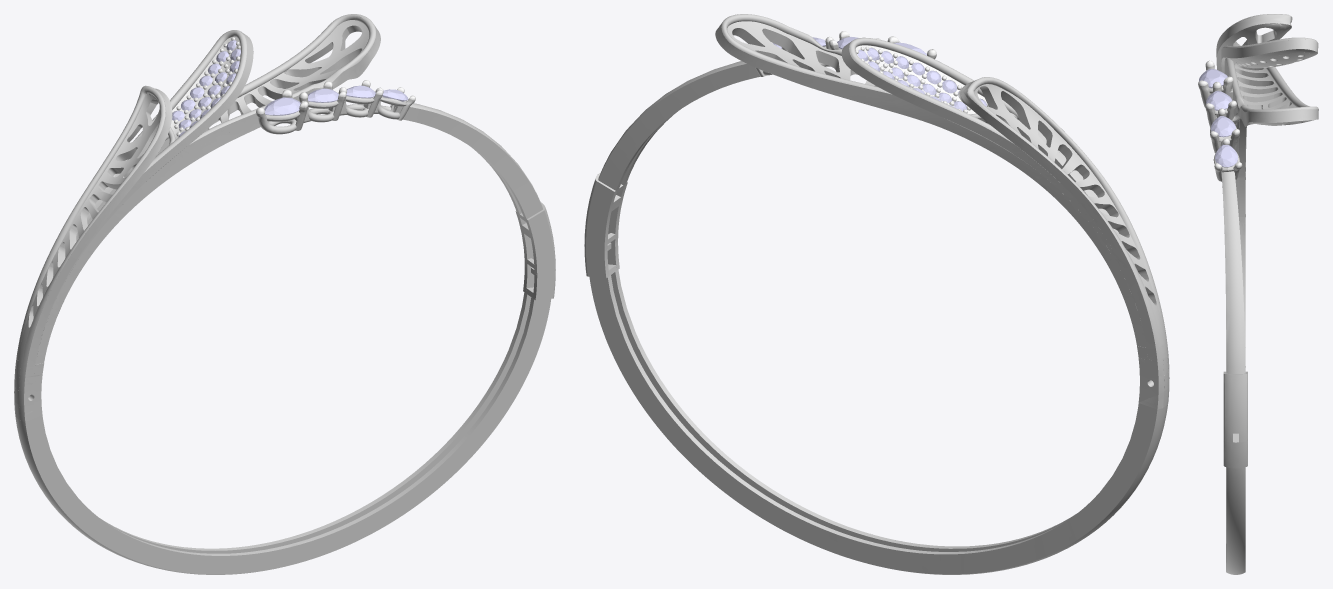
Rendered from DBR-D000683177.glb.
3 views of the same model, side by side, from view 1: azimuth 30°, elevation 25°; view 2: azimuth 150°, elevation 25°; view 3: azimuth 270°, elevation 25° (orthographic). The views are drawn at different scales.
Visible parts, largest first — view 1: lowPolyMesh, highPolyMesh; view 2: highPolyMesh, lowPolyMesh; view 3: highPolyMesh, lowPolyMesh.
Boxes of the visible parts, <box> form: lowPolyMesh: <box>14,14,555,574</box>; highPolyMesh: <box>14,14,555,574</box>; highPolyMesh: <box>584,14,1169,574</box>; lowPolyMesh: <box>585,14,1169,574</box>; highPolyMesh: <box>1198,14,1318,574</box>; lowPolyMesh: <box>1198,14,1318,574</box>.
Size of the model in its own units: 0.062 by 0.0565 by 0.0124.
